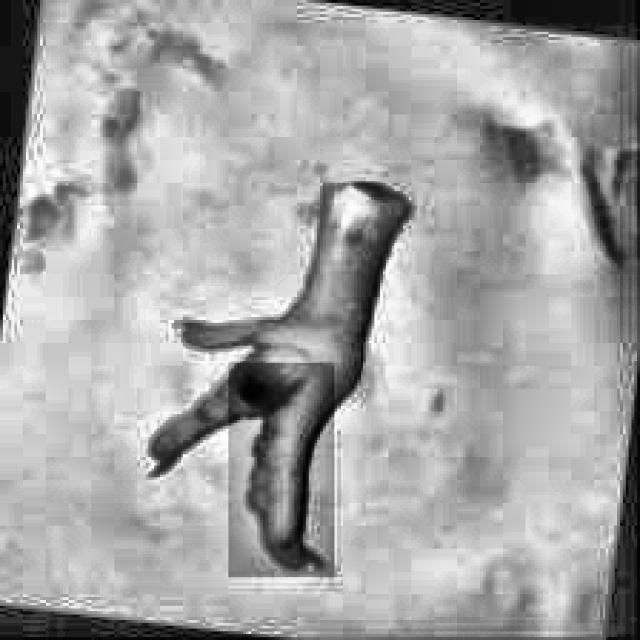Bumble foot: (143, 175, 411, 574)
